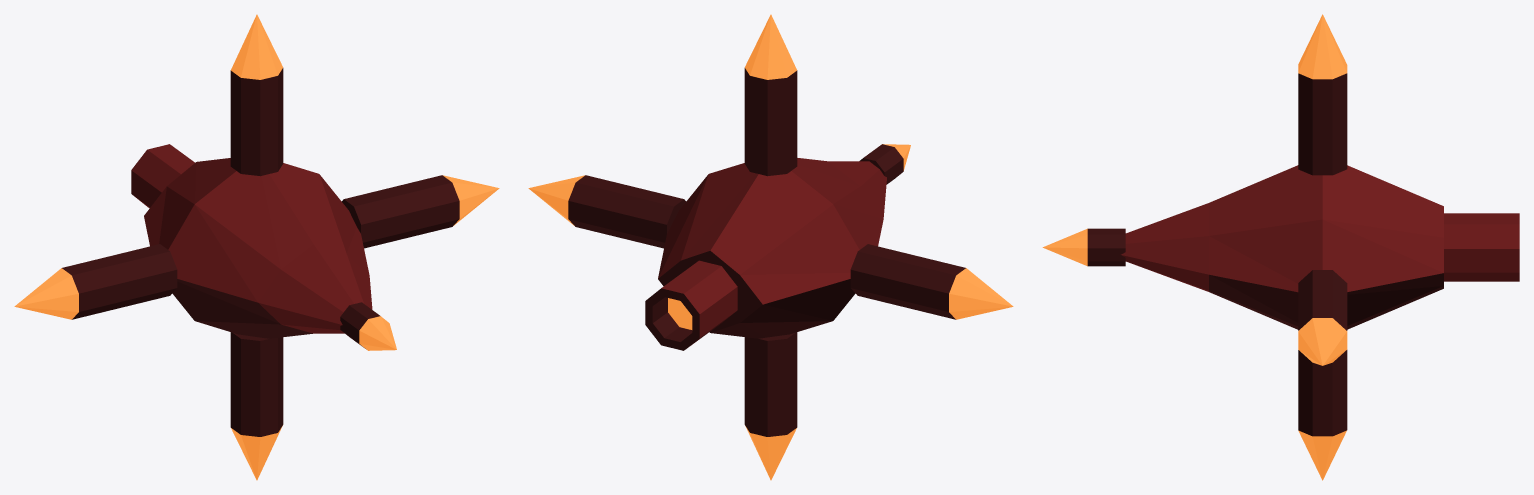
The model's file is arcwing-rammer-hull.gltf.
3 views of the same model, side by side, from view 1: azimuth 30°, elevation 25°; view 2: azimuth 150°, elevation 25°; view 3: azimuth 270°, elevation 25° (orthographic).
Visible parts, largest first — view 1: arcwing-rammer; view 2: arcwing-rammer; view 3: arcwing-rammer.
Boxes of the visible parts, <box> form: arcwing-rammer: <box>14,14,499,480</box>; arcwing-rammer: <box>528,14,1013,480</box>; arcwing-rammer: <box>1042,14,1519,480</box>.
Size of the model in its own units: 1.48 by 1.36 by 1.26.
